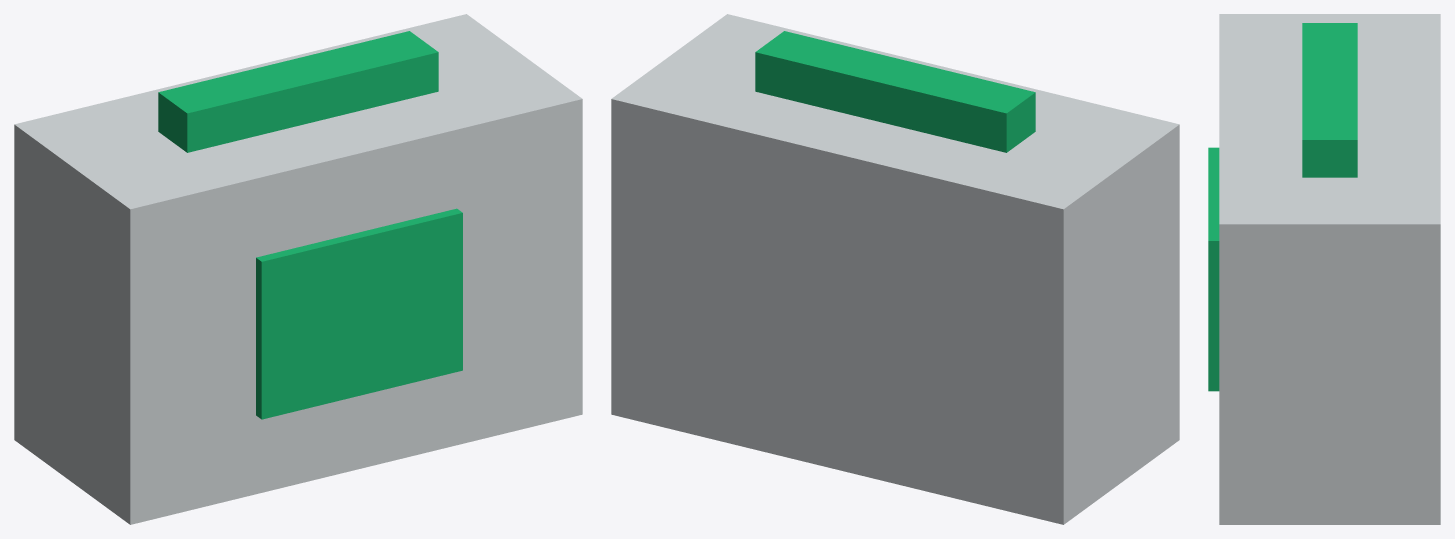
Rendered from item_F2_ReviveKit.obj.
The picture shows the model from 3 angles, left to right: view 1: azimuth 30°, elevation 25°; view 2: azimuth 150°, elevation 25°; view 3: azimuth 270°, elevation 25°; orthographic projection. The views are drawn at different scales.
Visible parts, largest first — view 1: Item_F2_ReviveKit, Item_F2_ReviveKit_Mark; view 2: Item_F2_ReviveKit, Item_F2_ReviveKit_Mark; view 3: Item_F2_ReviveKit, Item_F2_ReviveKit_Mark.
Part boxes in pixels (box(x1,y1,x2,y2)): Item_F2_ReviveKit: box(14, 14, 582, 524); Item_F2_ReviveKit_Mark: box(158, 31, 462, 419); Item_F2_ReviveKit: box(611, 14, 1179, 524); Item_F2_ReviveKit_Mark: box(755, 31, 1035, 152); Item_F2_ReviveKit: box(1219, 14, 1440, 524); Item_F2_ReviveKit_Mark: box(1208, 23, 1357, 391).
Bounding box in the file's own units: 0.18 × 0.135 × 0.084.
